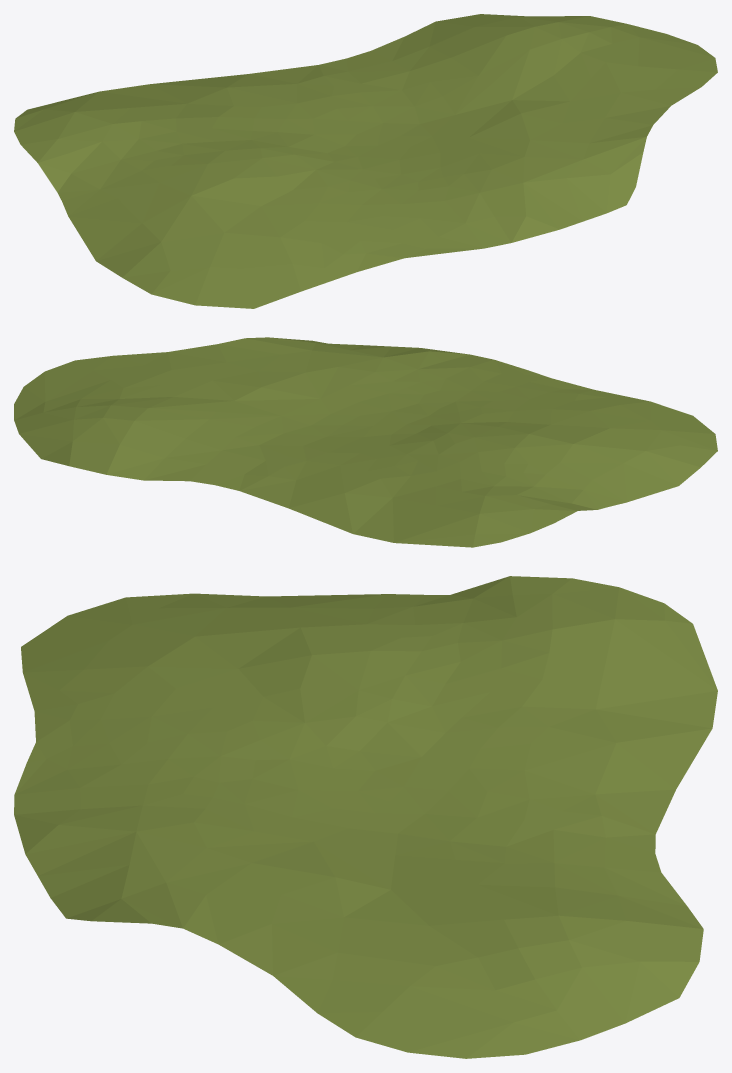
The model's file is Terrain_Clear_Intersection-01.fbx.
3 renders of one model, top to bottom at view 1: azimuth 30°, elevation 25°; view 2: azimuth 150°, elevation 25°; view 3: azimuth 270°, elevation 25°, orthographic. The views are drawn at different scales.
Parts seen in each view (by area): view 1: Terrain_Clear_Intersection-01; view 2: Terrain_Clear_Intersection-01; view 3: Terrain_Clear_Intersection-01.
Boxes of the visible parts, <box> form: Terrain_Clear_Intersection-01: <box>14,14,717,308</box>; Terrain_Clear_Intersection-01: <box>14,337,717,547</box>; Terrain_Clear_Intersection-01: <box>14,576,717,1058</box>.
Size of the model in its own units: 5549 by 302 by 3566.
1 material, 1 textured.
